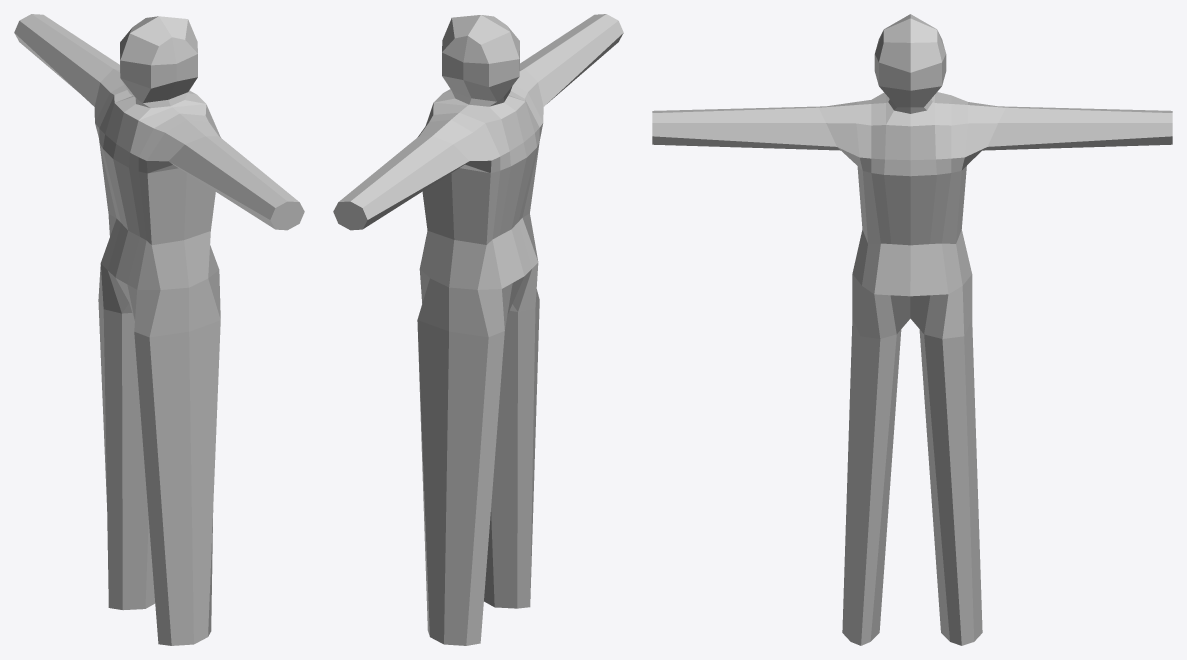
Rendered from Human.obj.
3 views of the same model, side by side, from view 1: azimuth 30°, elevation 25°; view 2: azimuth 150°, elevation 25°; view 3: azimuth 270°, elevation 25° (orthographic).
Parts seen in each view (by area): view 1: Cube; view 2: Cube; view 3: Cube.
Part boxes in pixels (left/top/right/bottom): Cube: left=14, top=14, right=304, bottom=645; Cube: left=333, top=14, right=623, bottom=645; Cube: left=652, top=14, right=1172, bottom=645.
Bounding box in the file's own units: 1.18 × 7.18 × 5.51.
